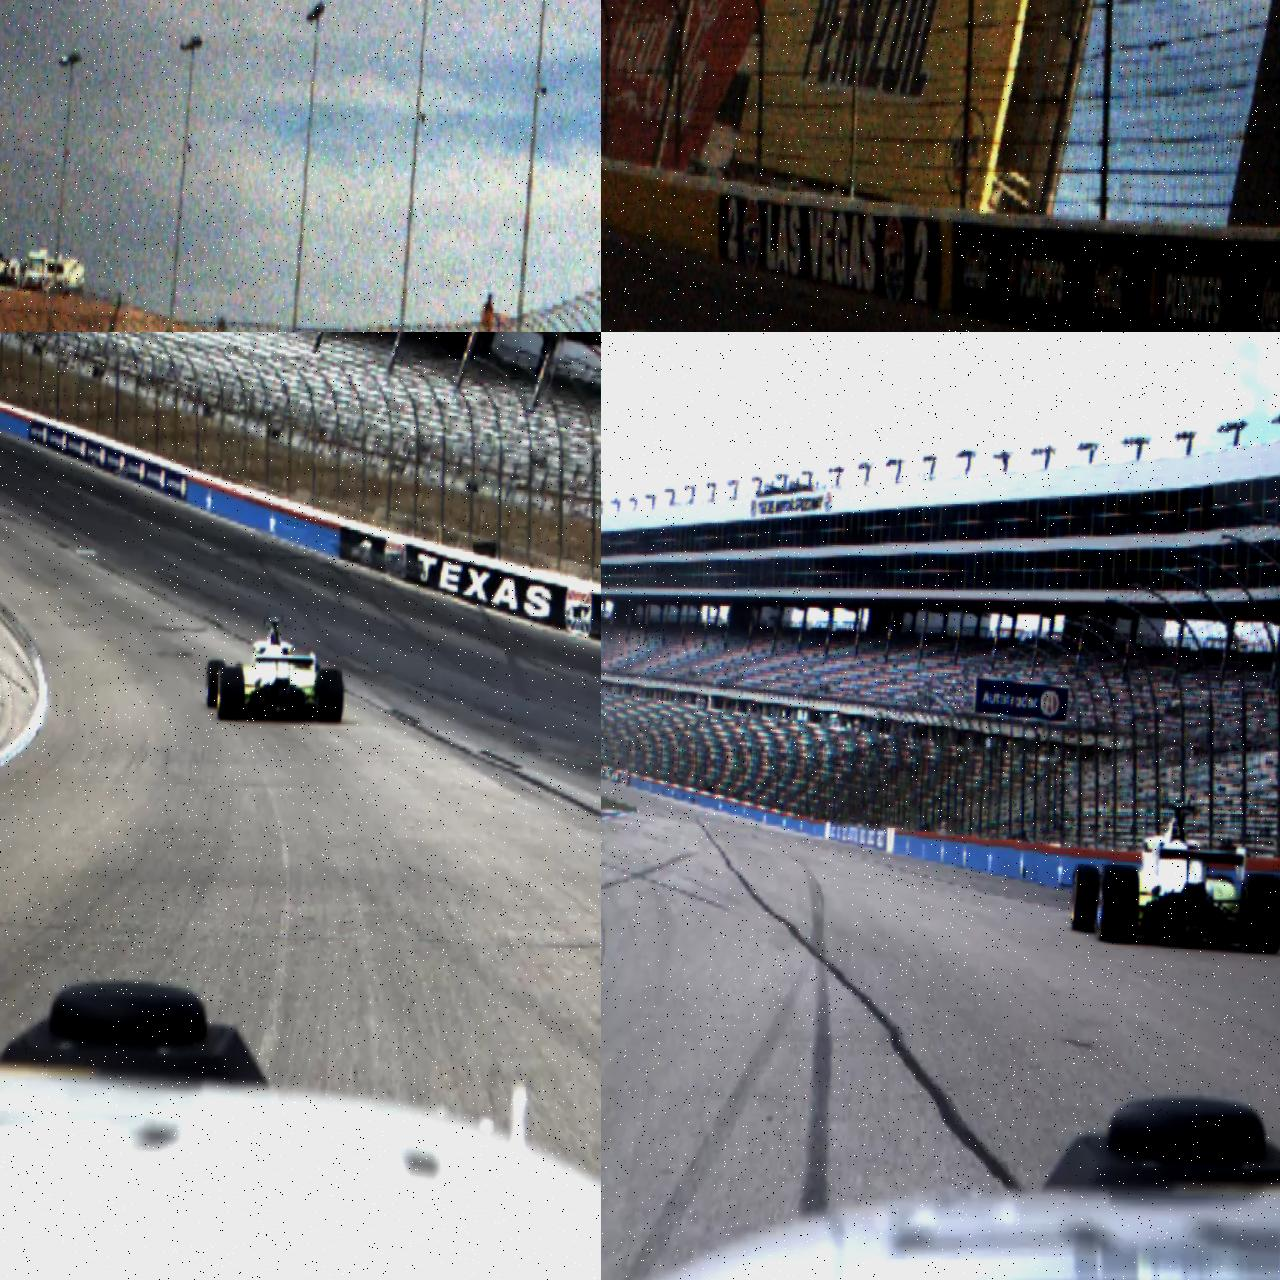AV: (1071, 801, 1280, 956), (204, 614, 346, 724)
Wheel: (1099, 865, 1139, 946), (1241, 873, 1280, 955), (1071, 865, 1099, 933), (218, 667, 245, 722), (318, 668, 343, 723), (205, 660, 225, 708)
